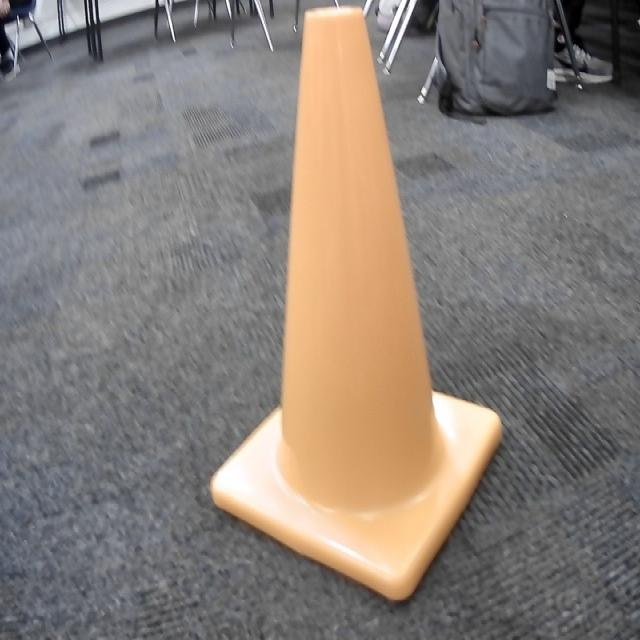cone: (212, 9, 504, 609)
